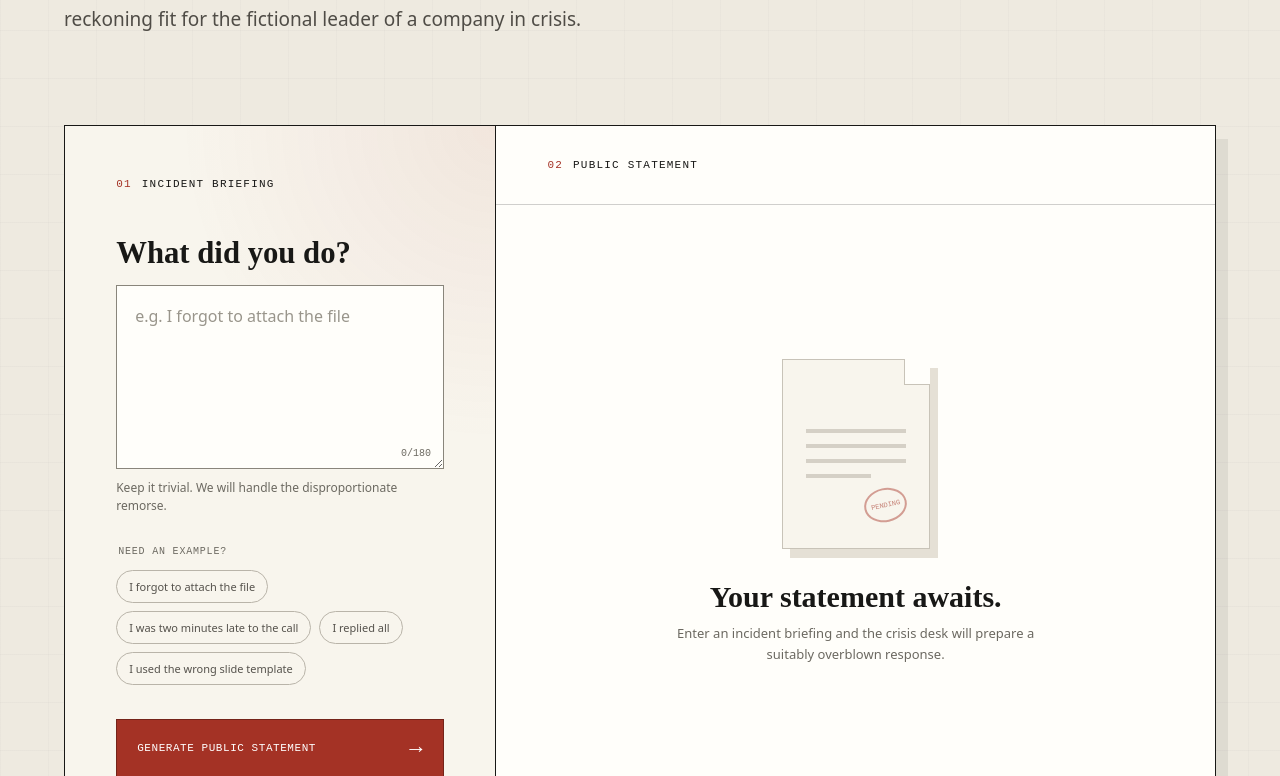
Test: App › locks the incident briefing while AI generation is pending
(page scrolled)
Type "I sent the draft too early" into the text box labelled "What did you do?". click: (280, 376)
box: [116,284,444,468]
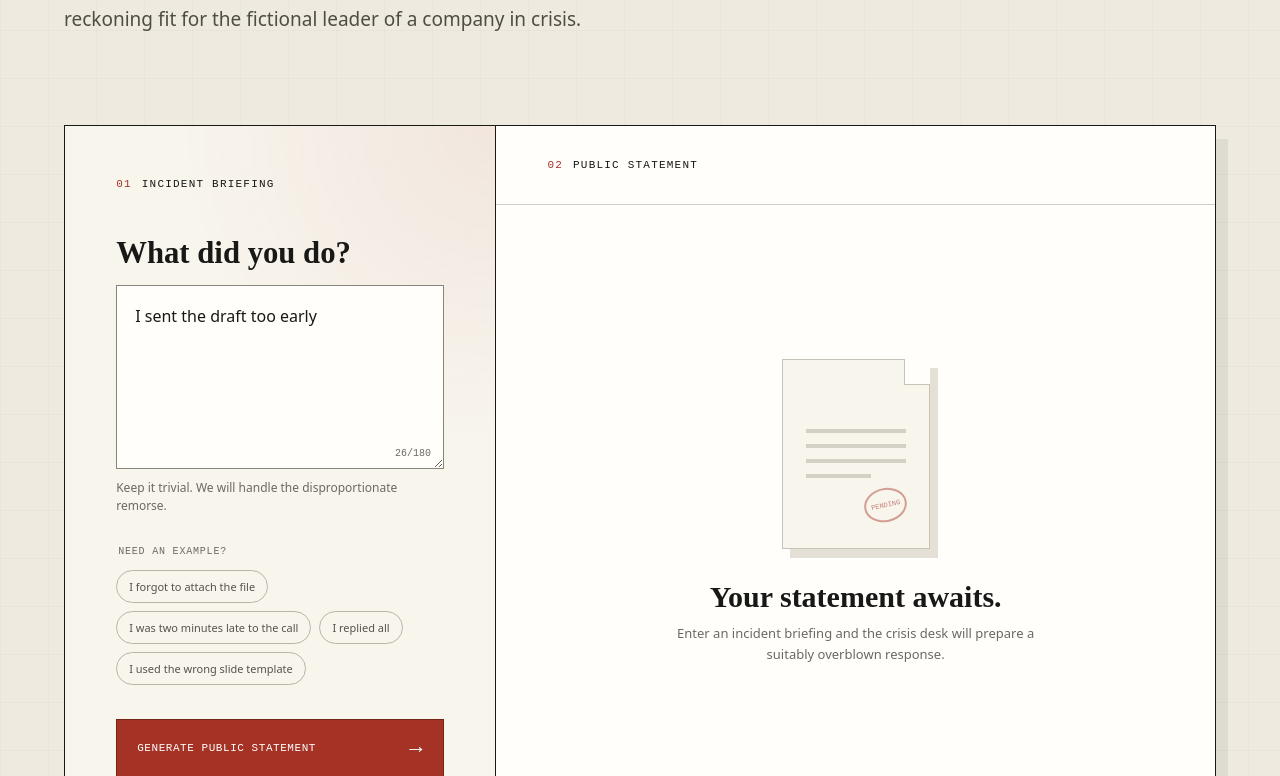
Click the button "Generate public statement →". click: click(280, 748)
box: [116,718,444,775]
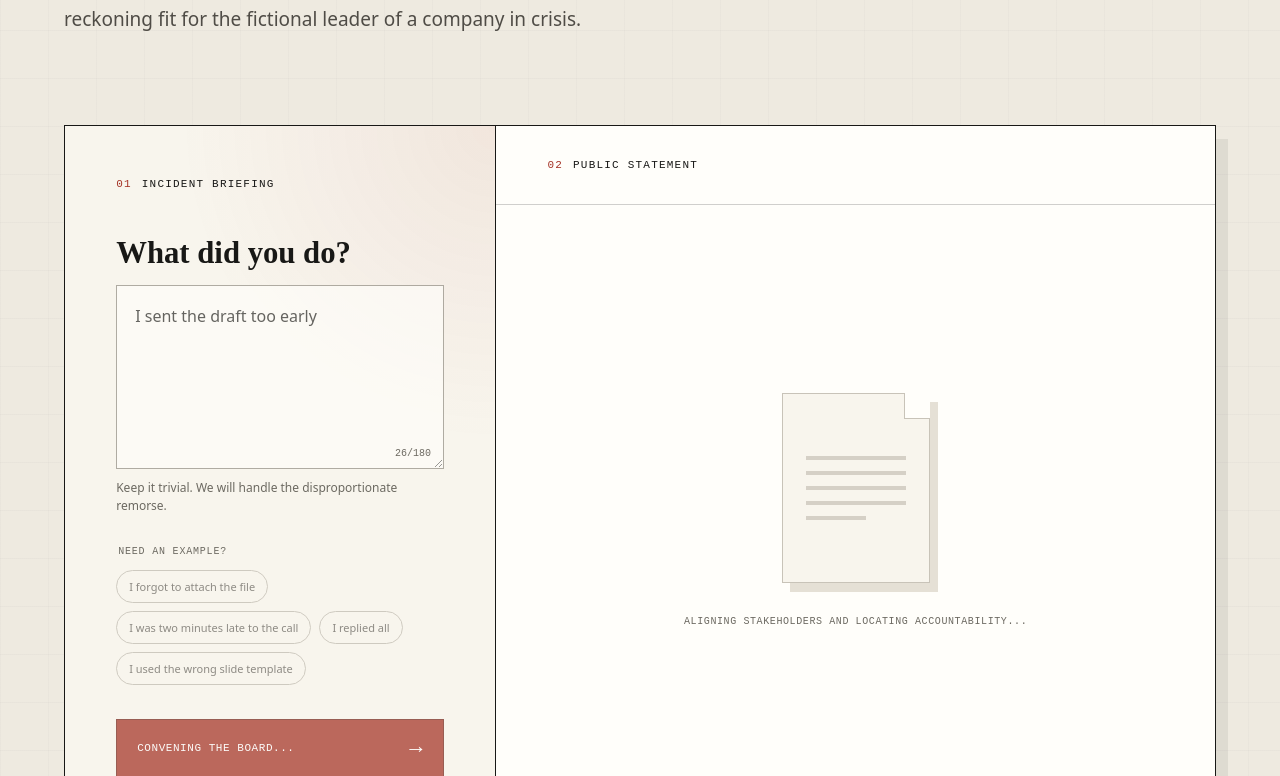
Check: the text box labelled "What did you do?" is disabled, box [116,284,444,468]
Check: the button "I replied all" is disabled, box [319,610,403,644]
